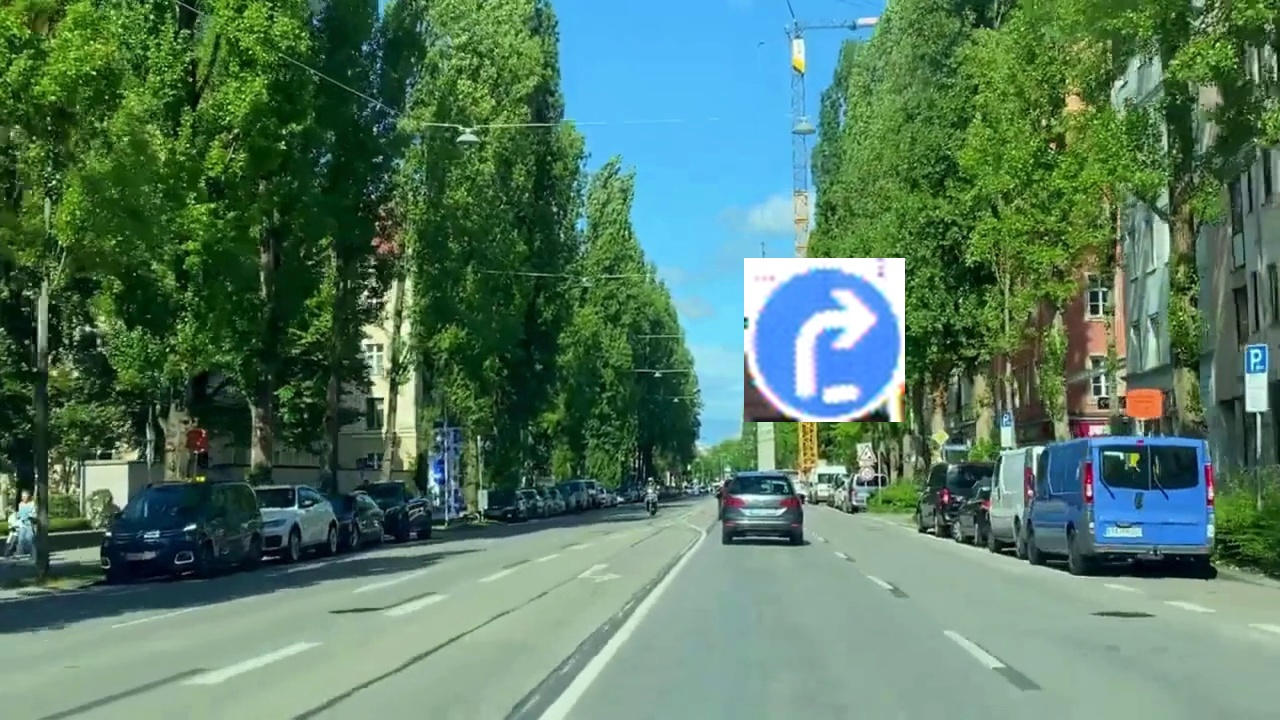Turn right: (744, 258, 905, 422)
